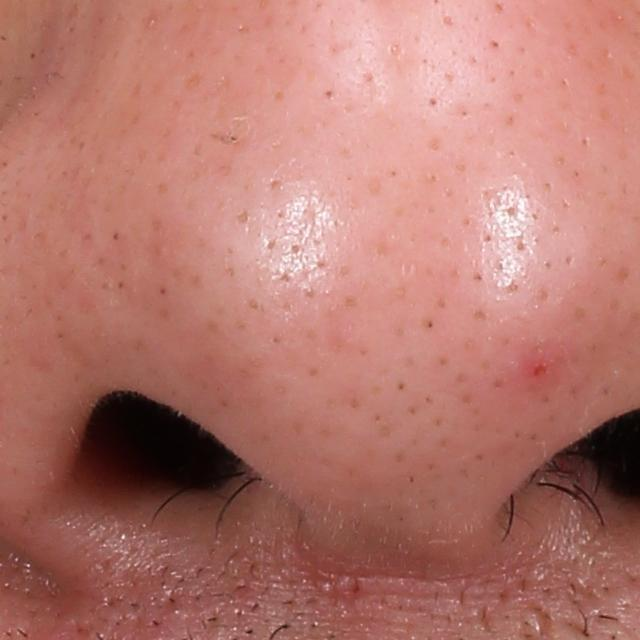papule: (520, 350, 564, 393)
